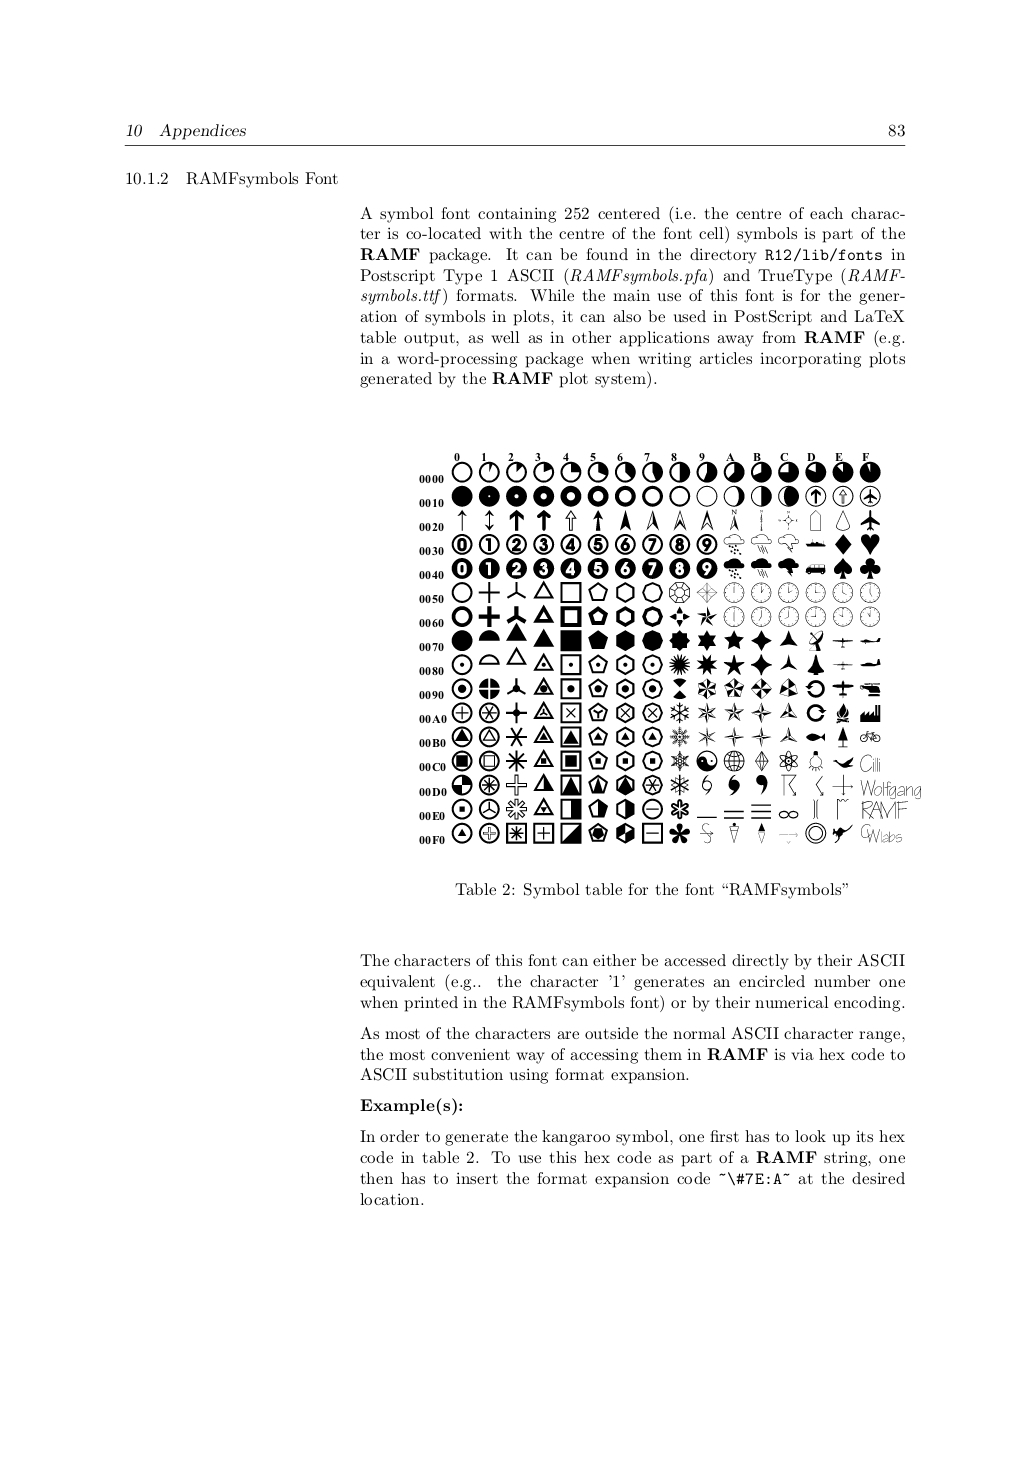figure: (419, 451, 920, 844)
